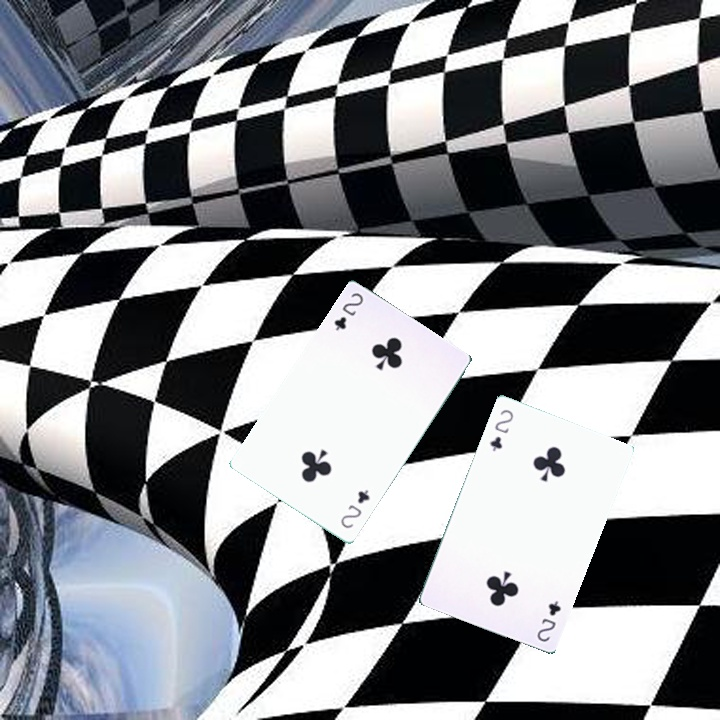2c: (336, 486, 373, 531), (330, 288, 366, 334), (485, 405, 516, 454), (533, 596, 563, 645)
